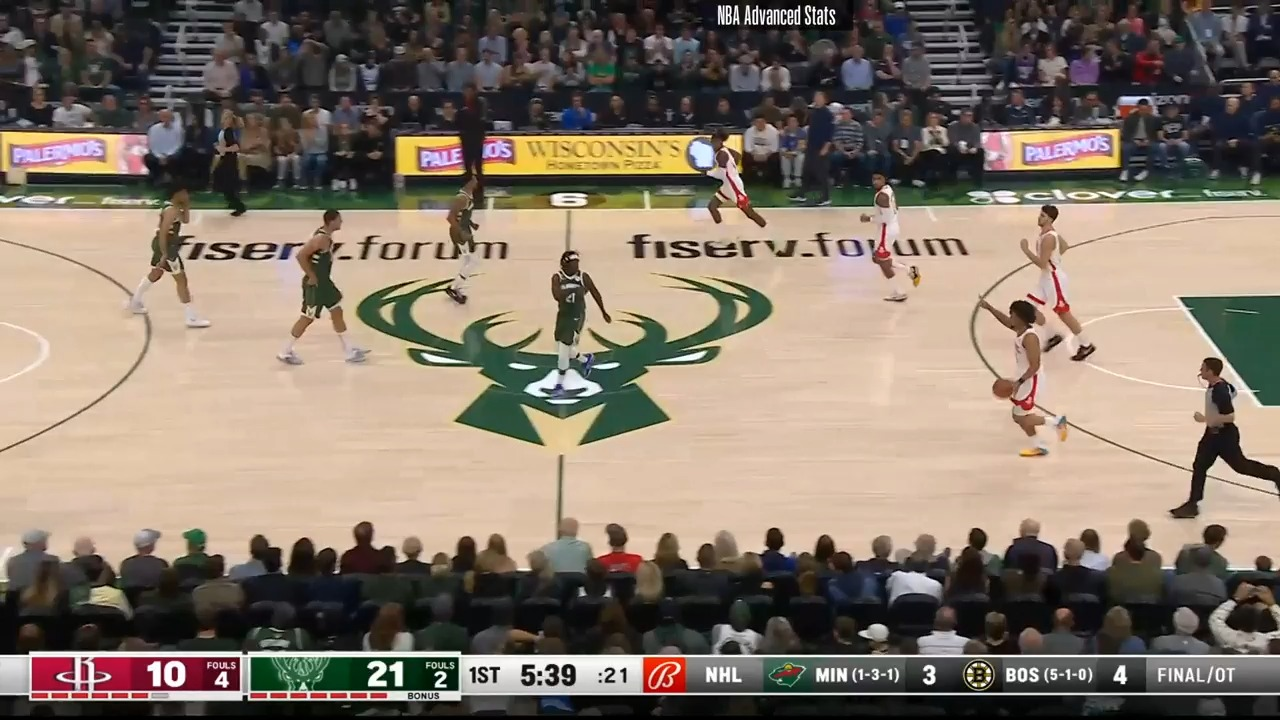player: (976, 296, 1074, 464), (275, 208, 371, 374), (1017, 205, 1106, 365), (124, 182, 209, 329), (547, 250, 615, 397), (684, 128, 772, 237), (854, 168, 922, 299), (438, 164, 489, 309)
referee: (1174, 354, 1280, 525), (209, 101, 266, 216)
